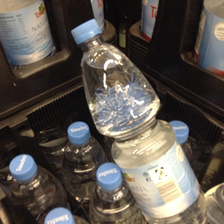water: (68, 17, 207, 223)
